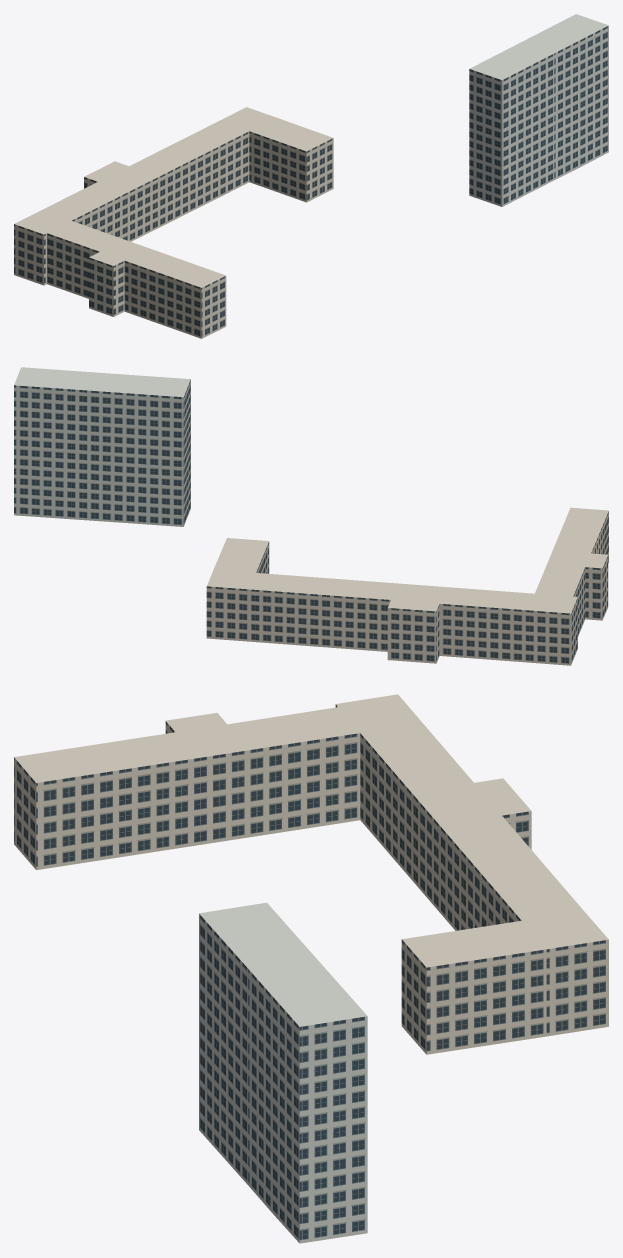
File: city_8_5.glb
The picture shows the model from 3 angles, top to bottom: view 1: azimuth 30°, elevation 25°; view 2: azimuth 150°, elevation 25°; view 3: azimuth 270°, elevation 25°; orthographic projection. The views are drawn at different scales.
Bounding box in the file's own units: 201 × 44.94 × 107.
2 materials, 2 textured.
